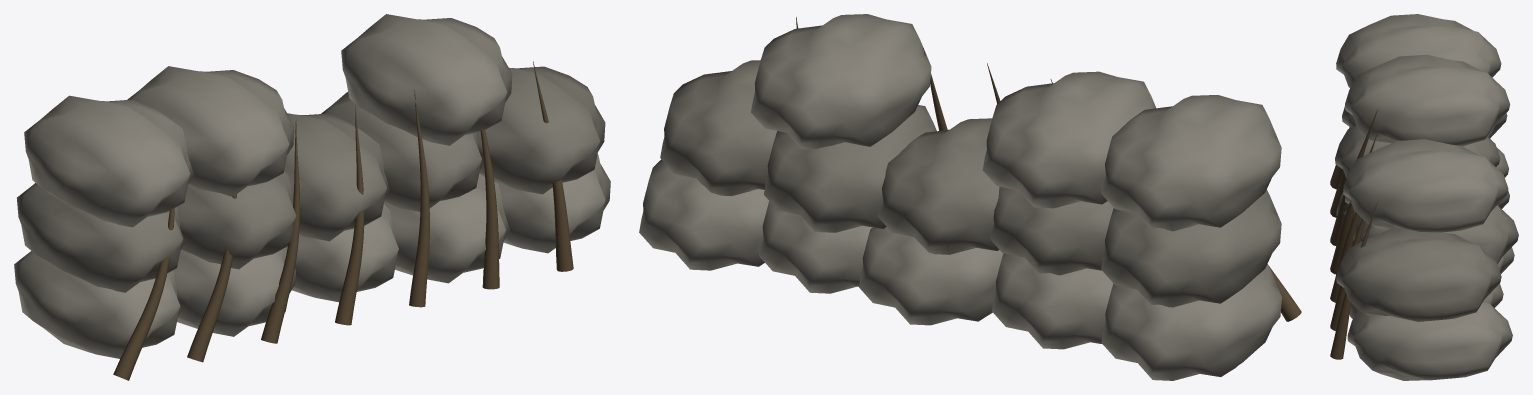
Rendered from wild_ruin.glb.
3 views of the same model, side by side, from view 1: azimuth 30°, elevation 25°; view 2: azimuth 150°, elevation 25°; view 3: azimuth 270°, elevation 25° (orthographic). The views are drawn at different scales.
Parts seen in each view (by area): view 1: Flowing root.023; view 2: Flowing root.023; view 3: Flowing root.023.
Part boxes in pixels (left/top/right/bottom): Flowing root.023: left=14, top=14, right=610, bottom=380; Flowing root.023: left=639, top=14, right=1301, bottom=380; Flowing root.023: left=1330, top=14, right=1518, bottom=380.
Bounding box in the file's own units: 3.43 × 1.34 × 1.25.
